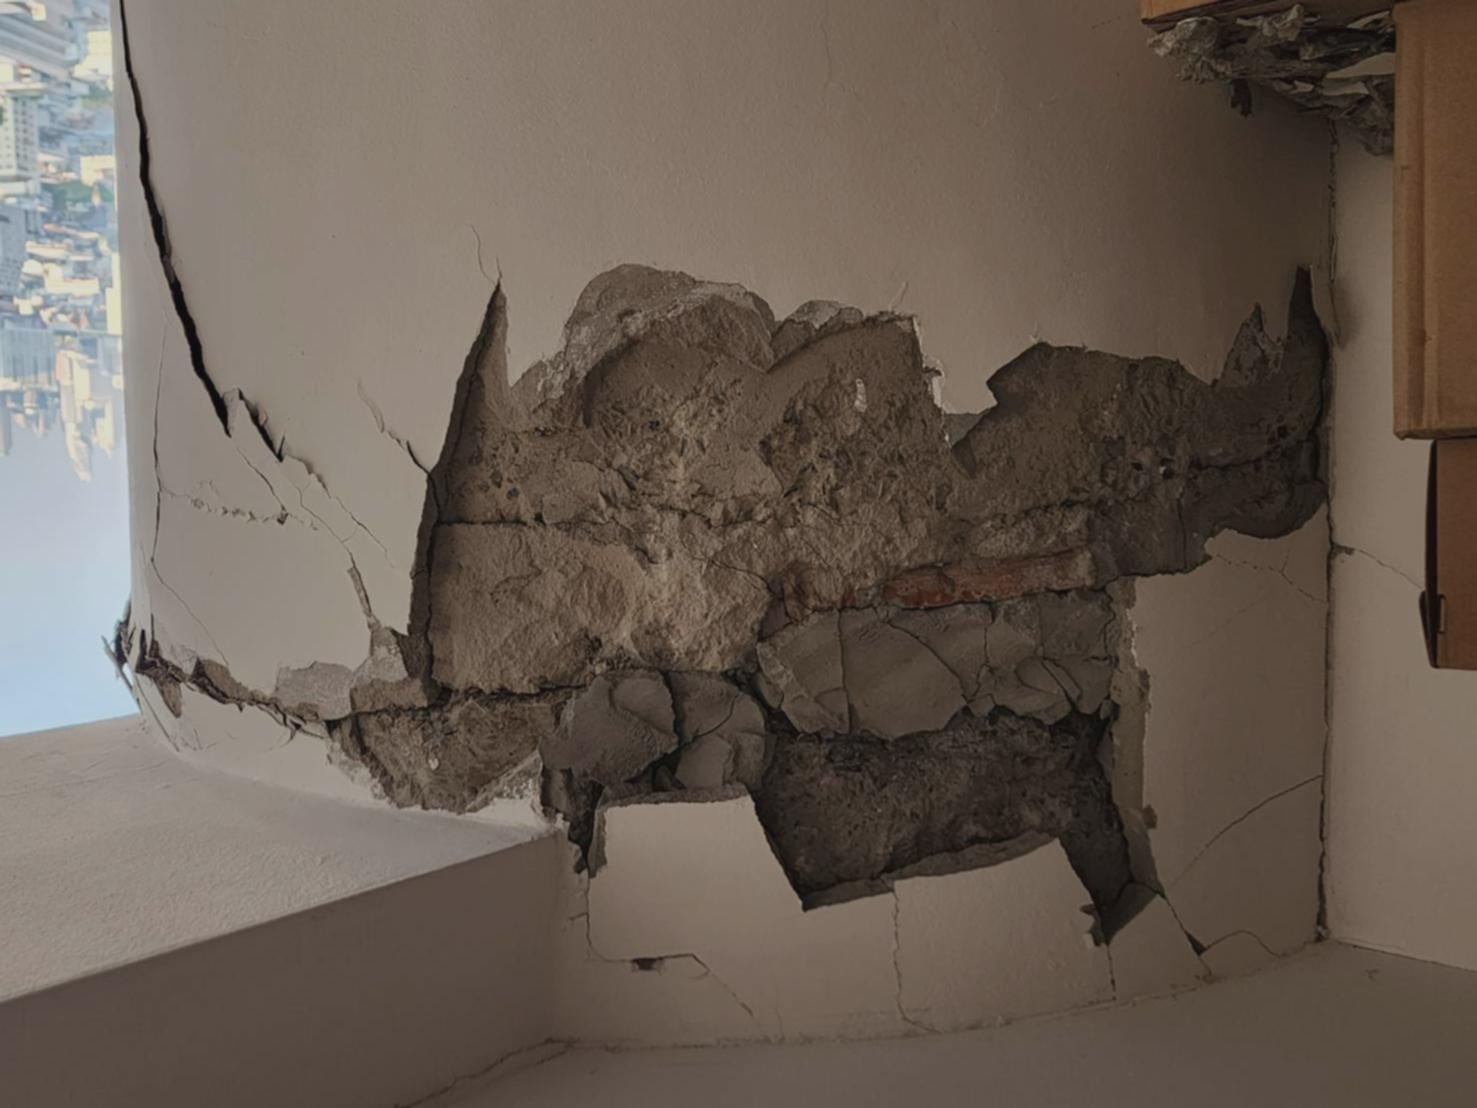High: (118, 115, 1349, 976)
